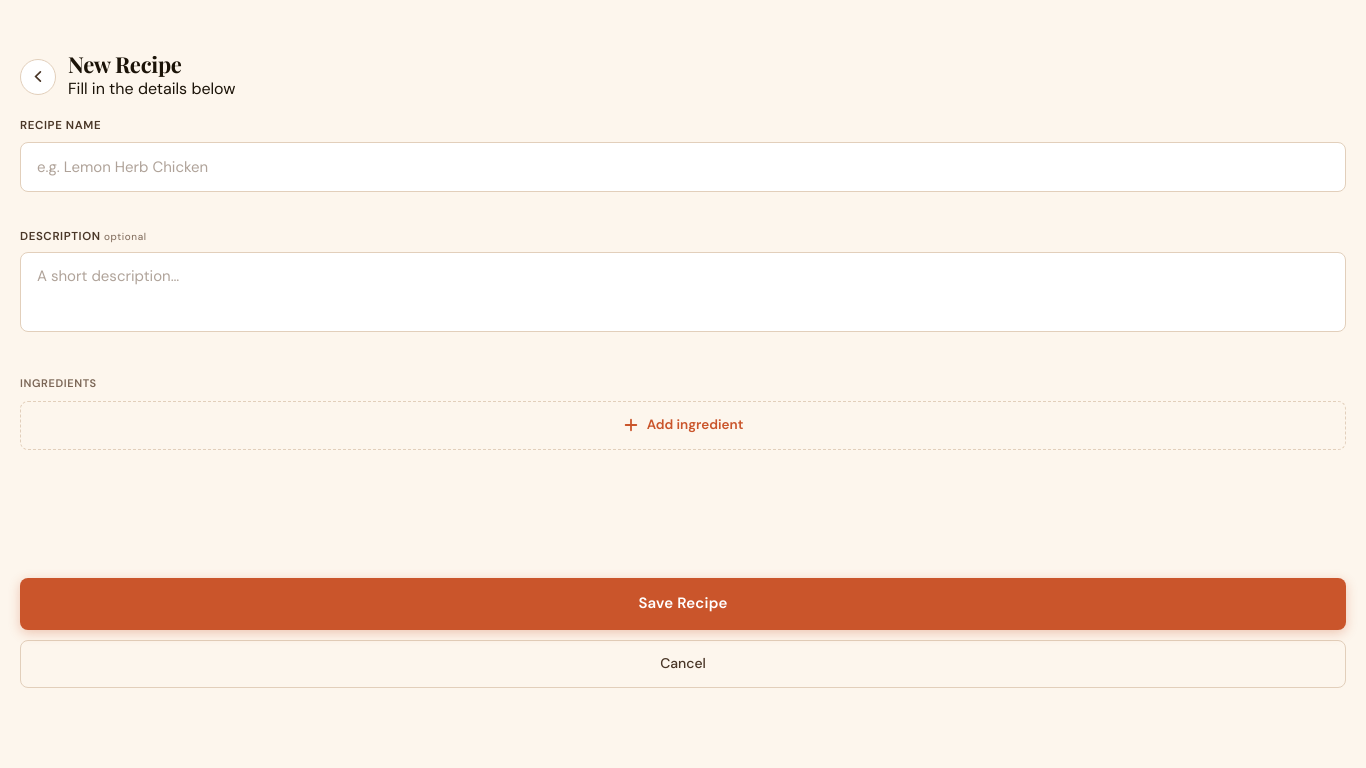
RecipeFormPage – create › shows name validation error when submitting with no name
The width and height of the screenshot is (1366, 768).
Click the button "Save Recipe": [683, 604] box top-left (20, 578), bottom-right (1346, 630)
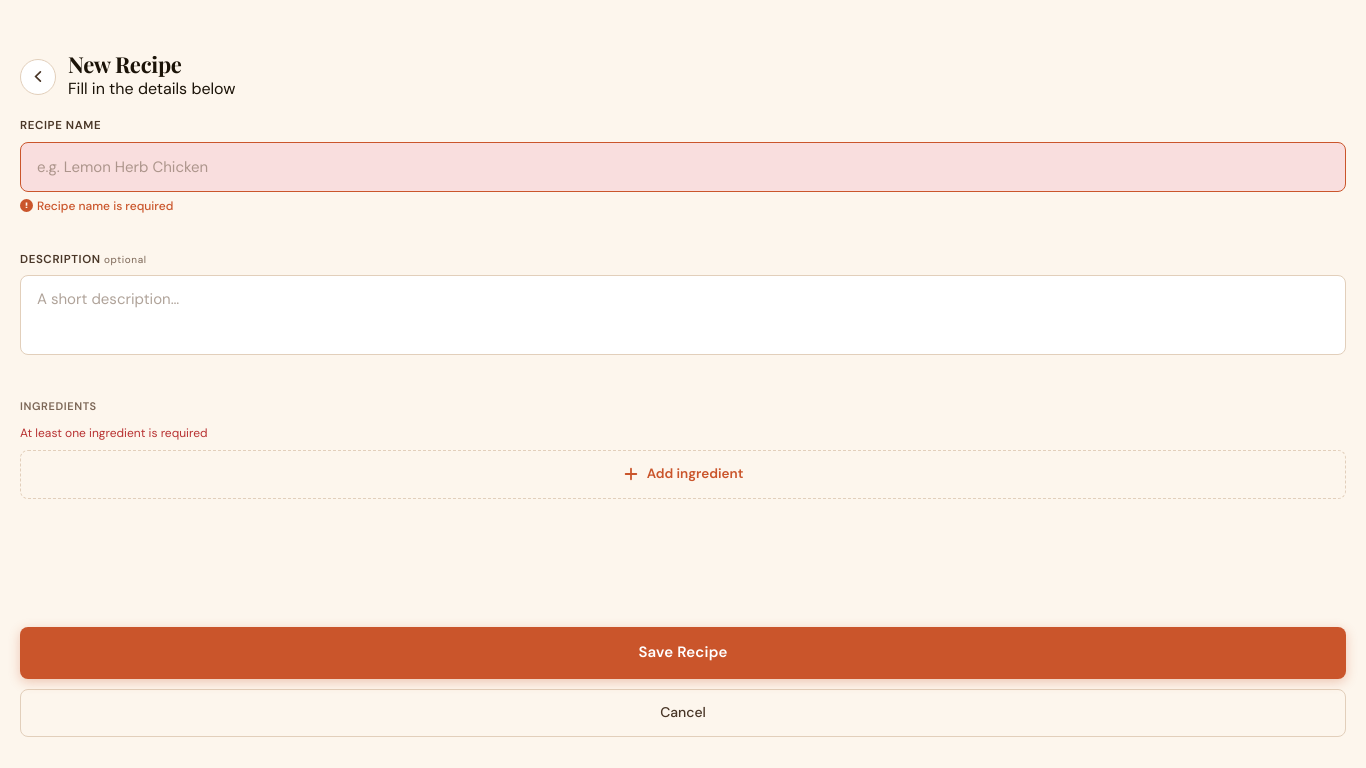
Expected: the text "Recipe name is required" is shown, top-left (20, 198), bottom-right (173, 214)
